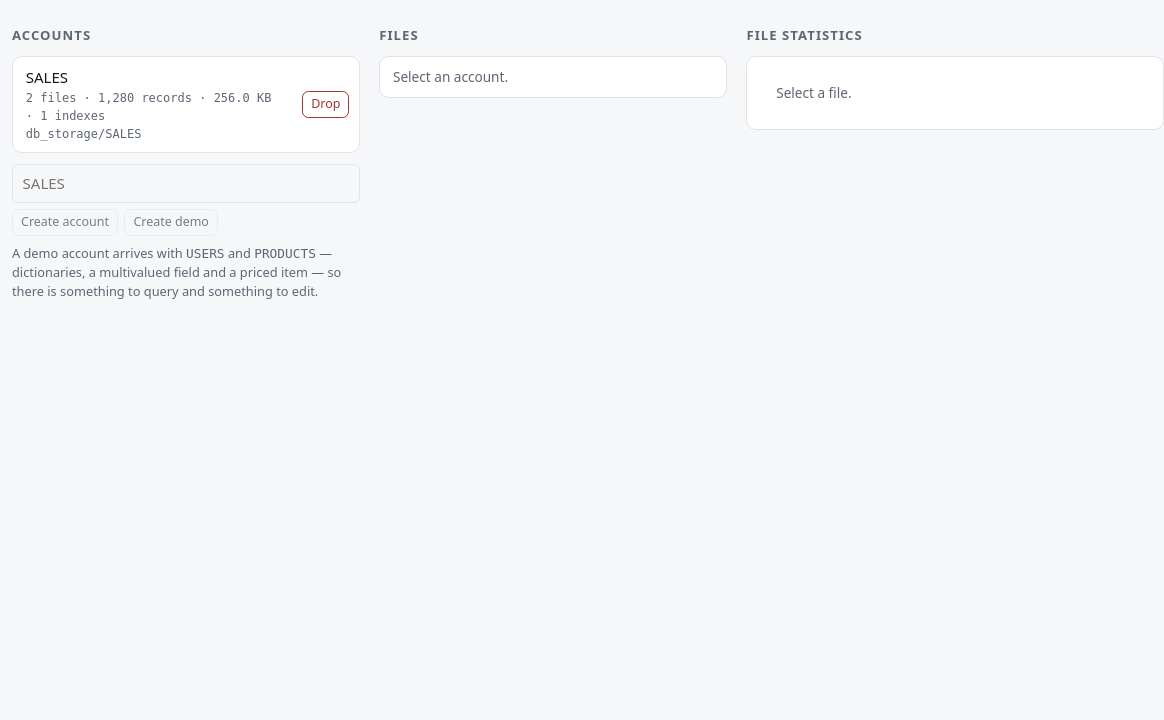
Test case: the accounts view › says where the counter was read from when the file is not in memory
Click the button with class "select" at (154, 105), box [13,58,296,152]
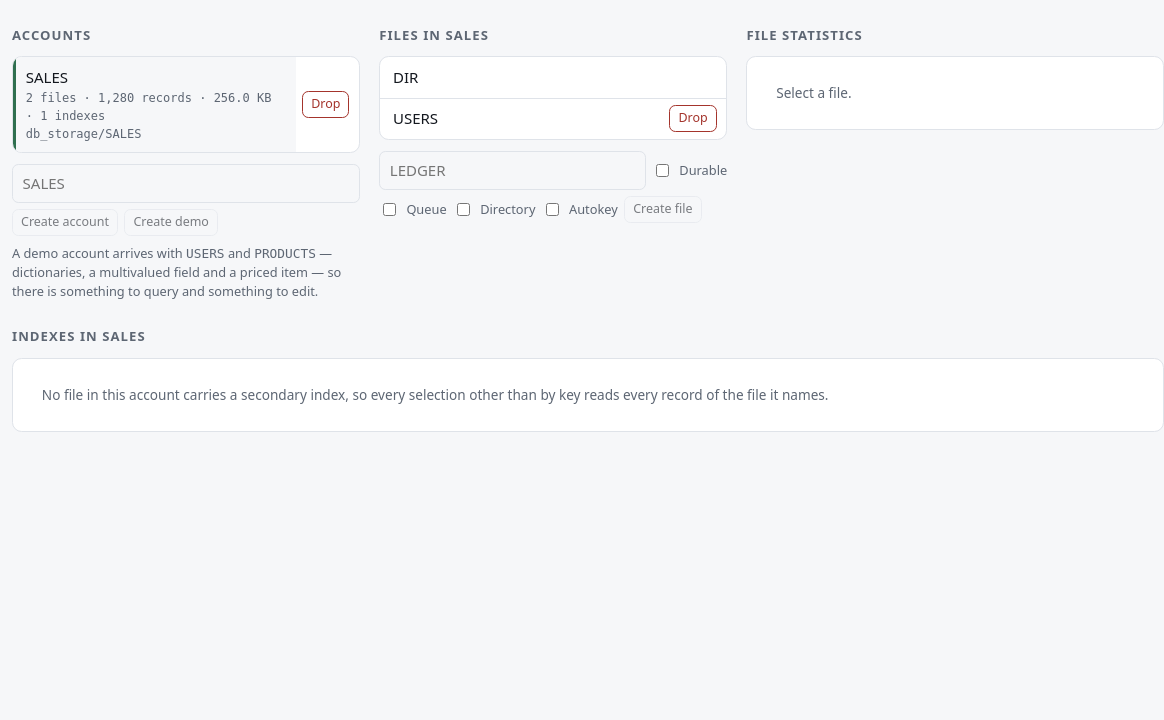
Click the button with class "select" showing "USERS" at (416, 118), box [380,99,663,139]
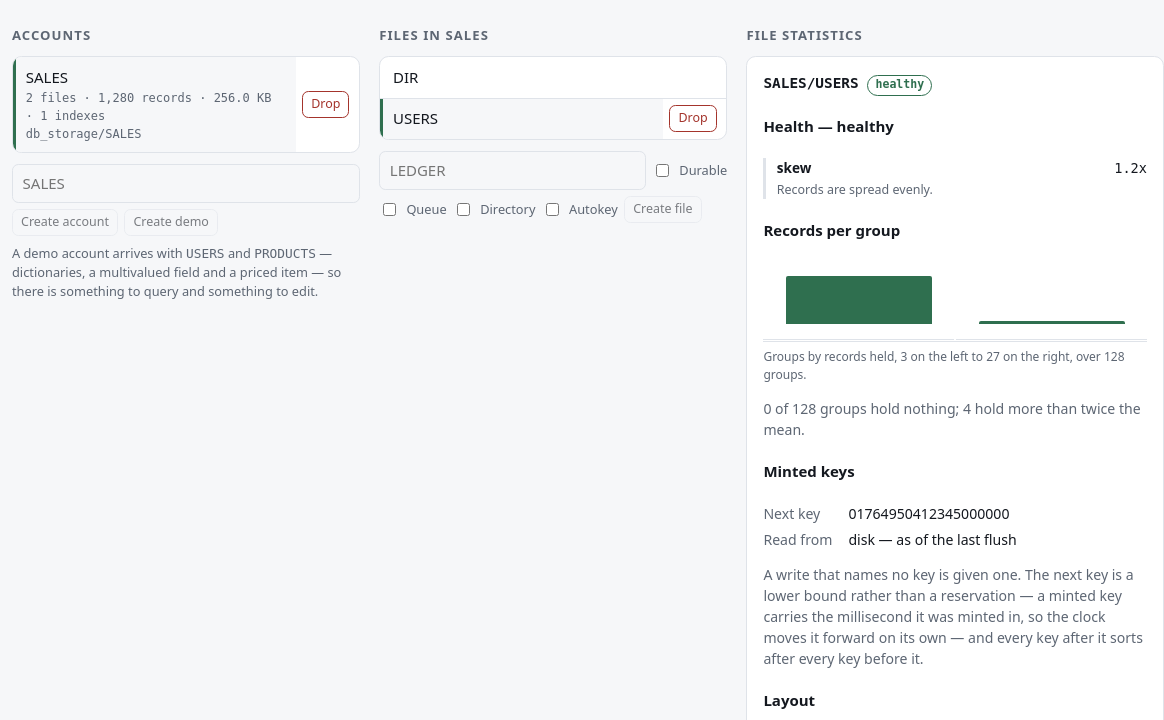
Check: the text "disk — as of the last flush" is shown, box [848,530,1017,549]
